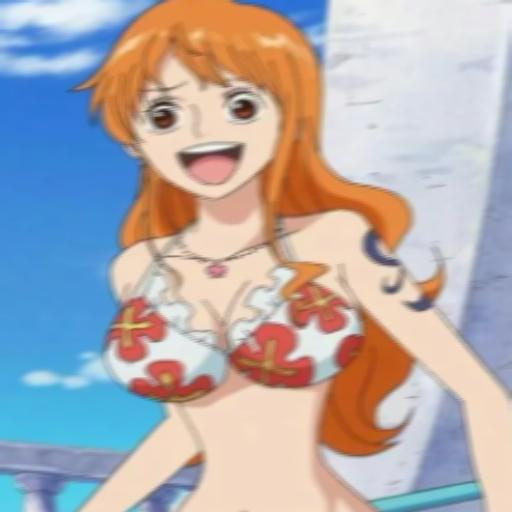Nami: (57, 0, 512, 512)
